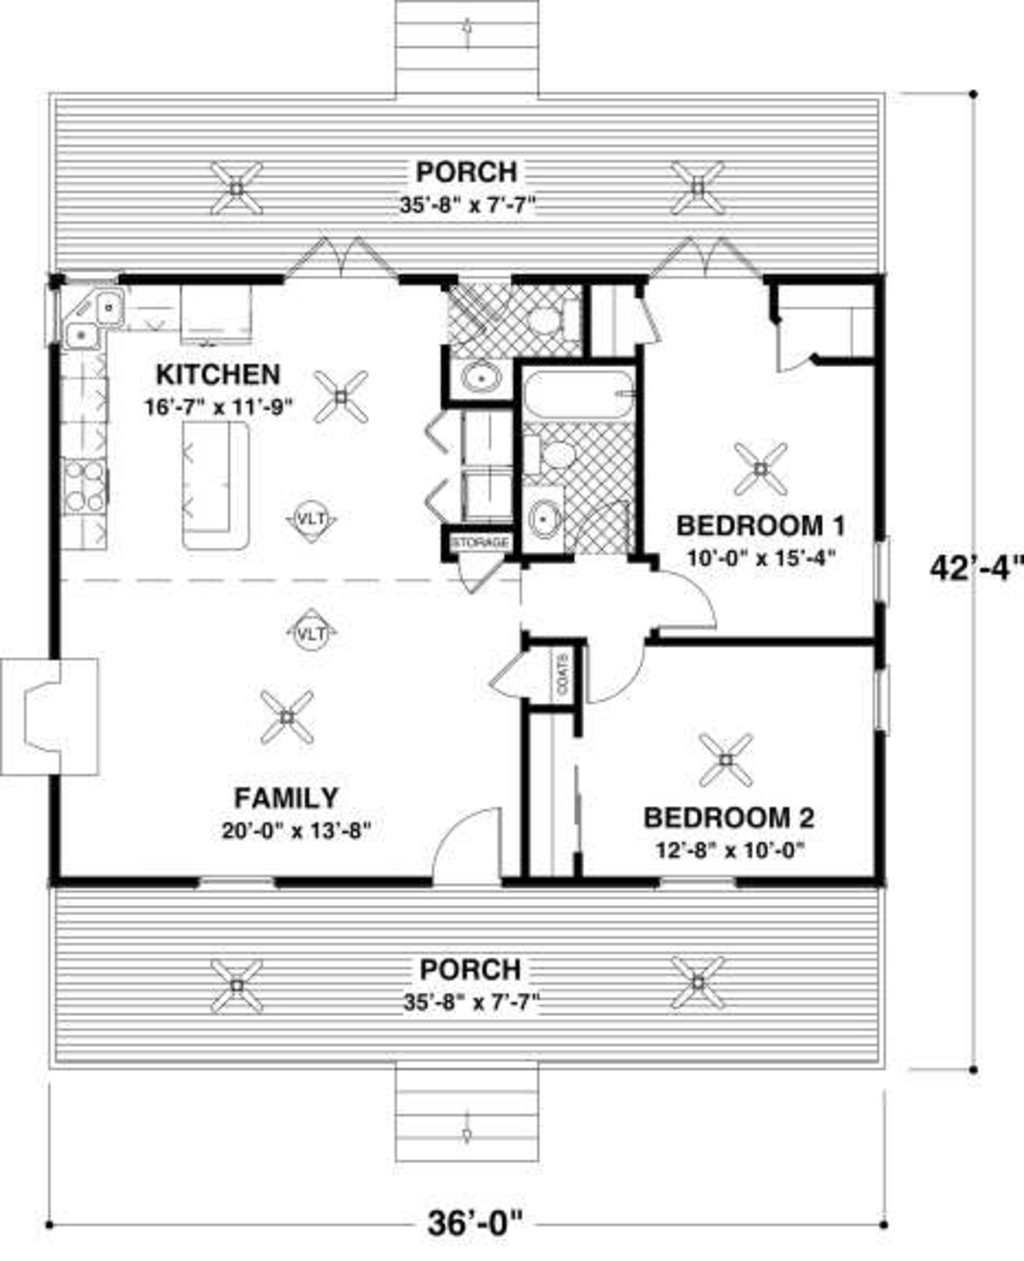door: (432, 795, 507, 872), (662, 570, 736, 637), (411, 408, 453, 461), (478, 650, 522, 697), (417, 465, 456, 518)
window: (870, 538, 893, 606), (199, 873, 276, 890), (656, 877, 735, 890), (66, 265, 120, 281), (872, 667, 887, 721), (456, 273, 508, 285), (49, 296, 62, 338)
